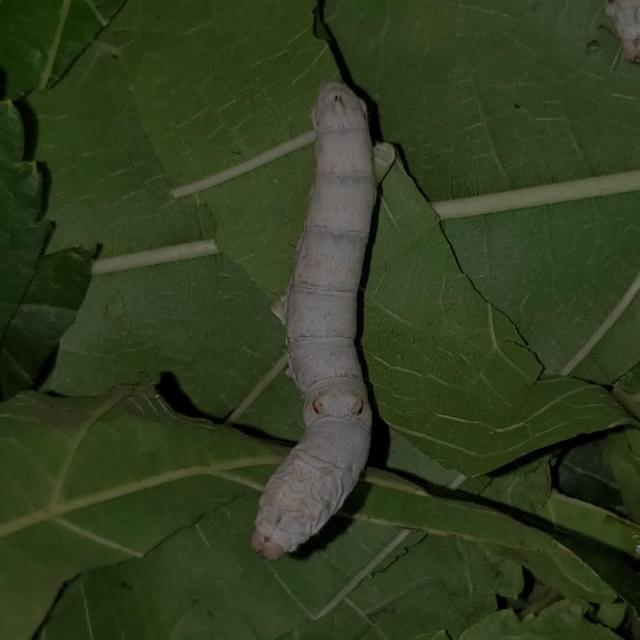Healthy: (243, 63, 402, 577)
